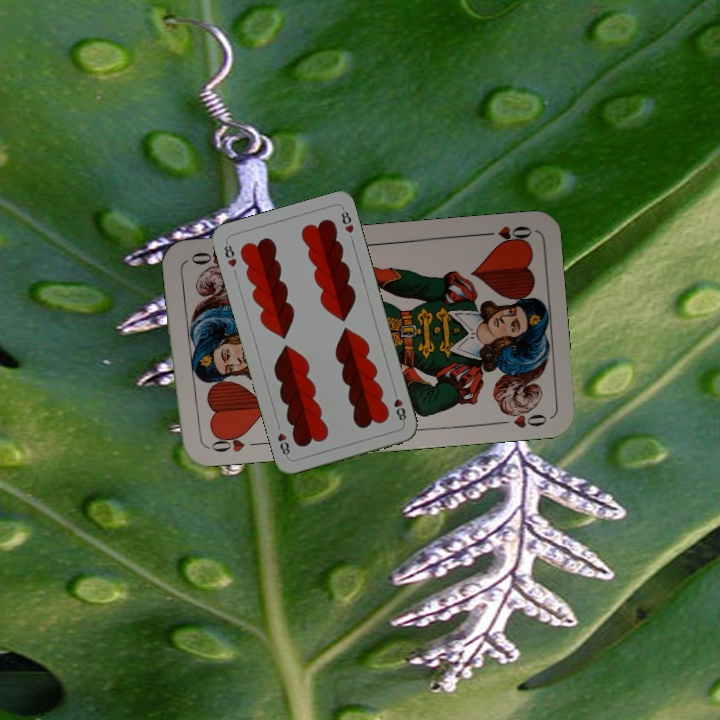H8: (389, 386, 409, 426), (220, 238, 239, 270)
HO: (202, 428, 261, 455), (475, 221, 534, 248)
